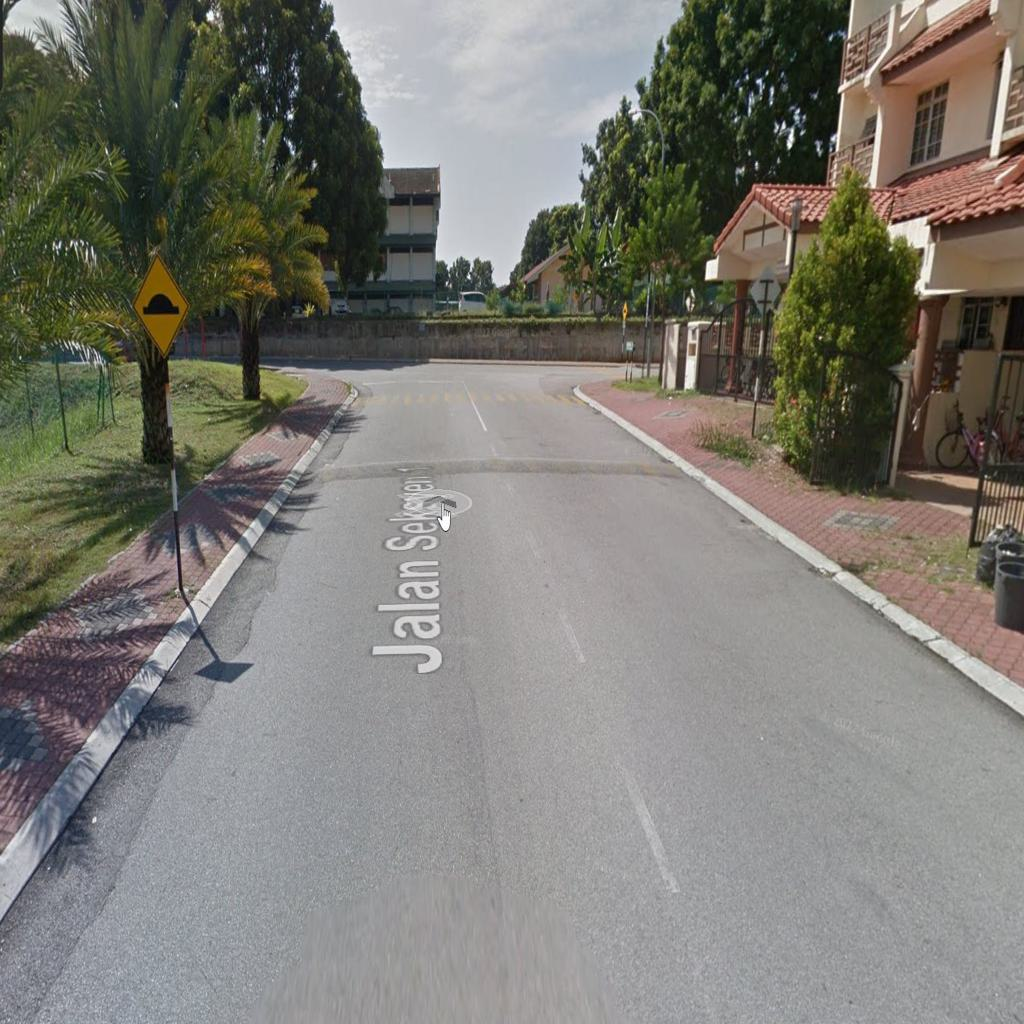Junction: (545, 324, 660, 407), (261, 332, 385, 398)
